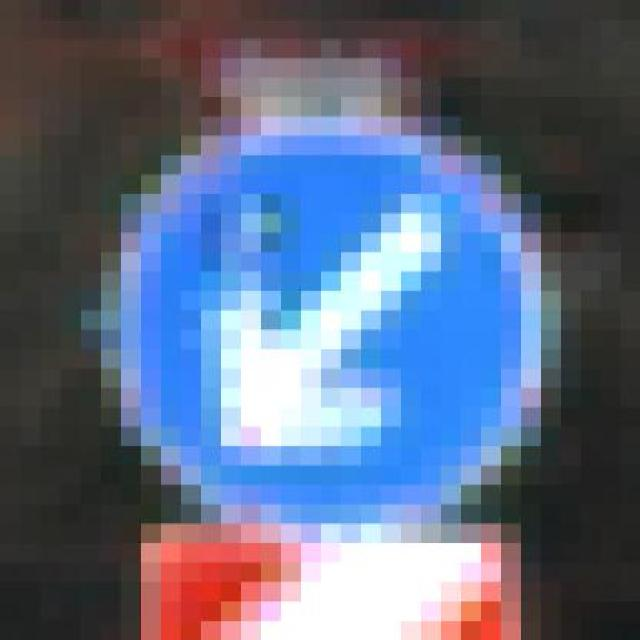Keep-Left: (60, 97, 620, 563)
